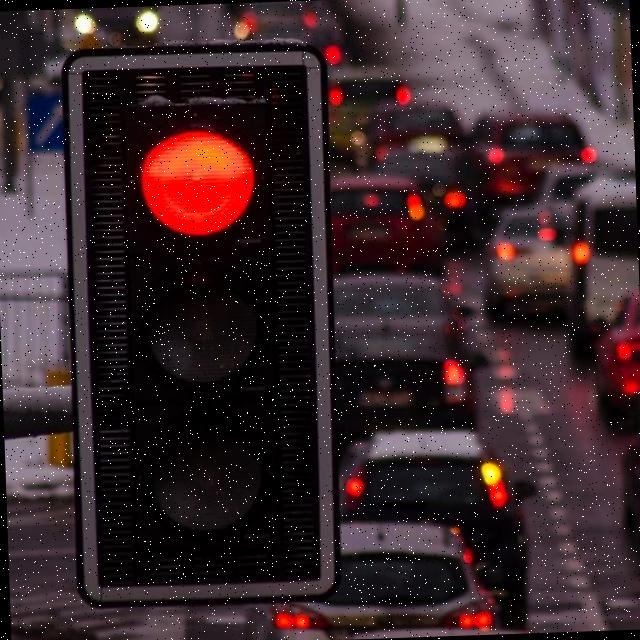Czerwone swiatlo: (108, 96, 286, 560)
